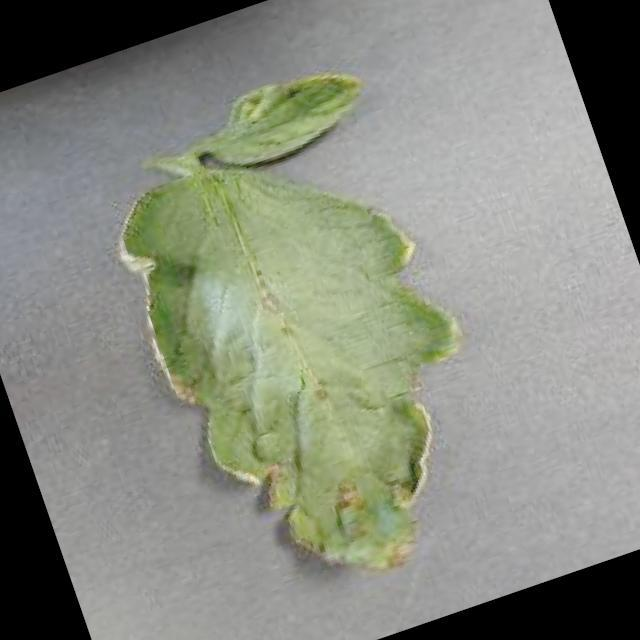Tomato bacterial spot leaf: (79, 41, 535, 624)
